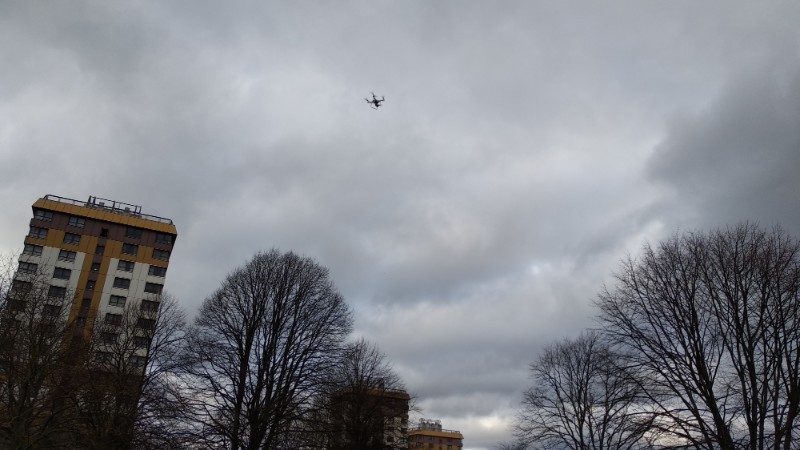drone: (362, 90, 387, 110)
